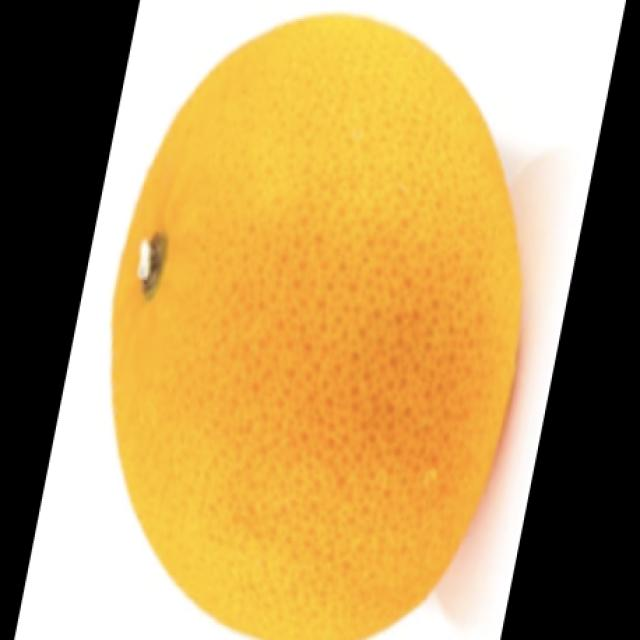orange: (113, 1, 539, 628)
